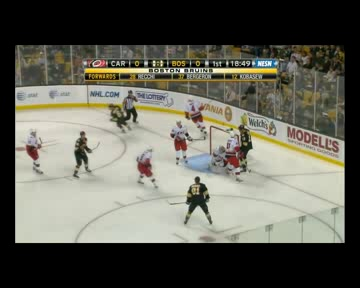normal: (166, 93, 213, 168)
